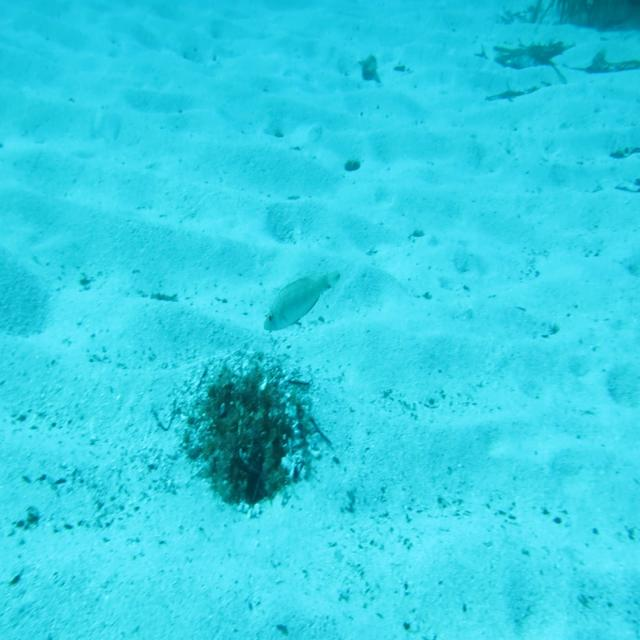BN: (259, 268, 344, 336)
core_nest: (220, 380, 291, 422)
nest: (170, 348, 335, 528)
vegetation: (492, 0, 640, 71)
